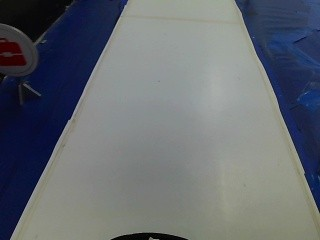company: (0, 21, 40, 80)
